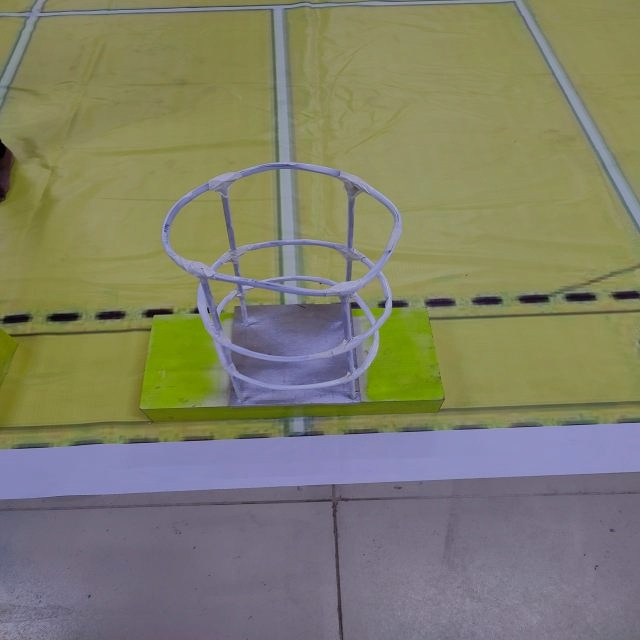silo: (135, 147, 423, 430)
